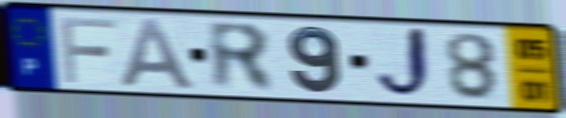8: (442, 32, 501, 102)
9: (284, 23, 345, 98)
A: (117, 15, 201, 93)
F: (57, 14, 120, 86)
J: (372, 24, 435, 103)
R: (203, 18, 279, 94)
